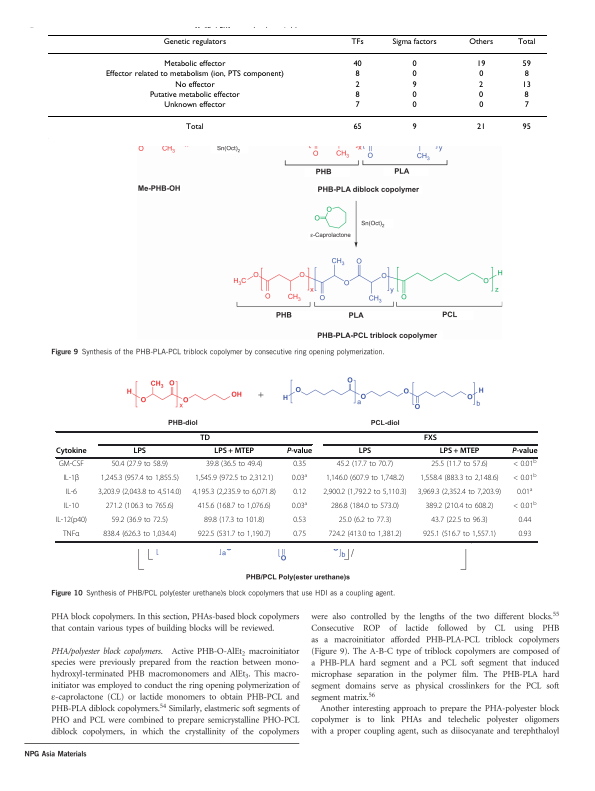borderless: (46, 33, 548, 140), (54, 430, 537, 541)
cell: (104, 70, 284, 80), (148, 90, 240, 100), (191, 488, 277, 498), (322, 488, 408, 498), (97, 488, 182, 498), (417, 488, 502, 498), (100, 474, 180, 484), (194, 474, 274, 484), (325, 474, 405, 484), (419, 474, 499, 484), (197, 502, 272, 512), (102, 530, 177, 540), (197, 530, 272, 540), (327, 530, 402, 540), (422, 530, 497, 540), (105, 502, 175, 512), (330, 502, 400, 512), (424, 502, 494, 512), (162, 37, 227, 47), (203, 516, 265, 526), (110, 460, 169, 470), (430, 460, 489, 470), (110, 516, 169, 526), (430, 516, 489, 526), (205, 460, 263, 470), (336, 460, 394, 470), (163, 60, 226, 69), (163, 101, 226, 110), (338, 516, 392, 526), (391, 37, 437, 47), (213, 447, 255, 457), (174, 80, 215, 90), (439, 447, 480, 457), (55, 516, 88, 526), (55, 447, 87, 457), (512, 459, 537, 470), (512, 473, 537, 484), (512, 501, 537, 512), (286, 447, 313, 457), (511, 447, 538, 457), (58, 460, 85, 470), (468, 37, 494, 47), (516, 37, 536, 47), (185, 123, 204, 133), (291, 473, 308, 484), (516, 487, 533, 498), (291, 501, 308, 512), (62, 474, 80, 484), (62, 530, 80, 540), (63, 502, 80, 512), (132, 447, 147, 457), (292, 460, 307, 470), (292, 488, 307, 498), (292, 516, 307, 526), (517, 516, 532, 526), (292, 530, 307, 540), (517, 530, 532, 540), (350, 37, 364, 47), (358, 447, 372, 457), (64, 488, 78, 498), (423, 434, 438, 443), (199, 434, 211, 443), (521, 80, 531, 90), (352, 123, 362, 133), (476, 123, 486, 133), (521, 123, 531, 133), (352, 60, 362, 69), (476, 60, 486, 69), (521, 60, 531, 69), (354, 70, 360, 80), (411, 70, 417, 80), (478, 70, 484, 80), (523, 70, 529, 80), (354, 80, 360, 90), (411, 80, 417, 90), (478, 80, 484, 90), (354, 90, 360, 100), (411, 90, 417, 100), (478, 90, 484, 100), (523, 90, 529, 100), (411, 123, 417, 133), (411, 60, 417, 69), (354, 101, 360, 110), (411, 101, 417, 110), (478, 101, 484, 110), (523, 101, 529, 110)
